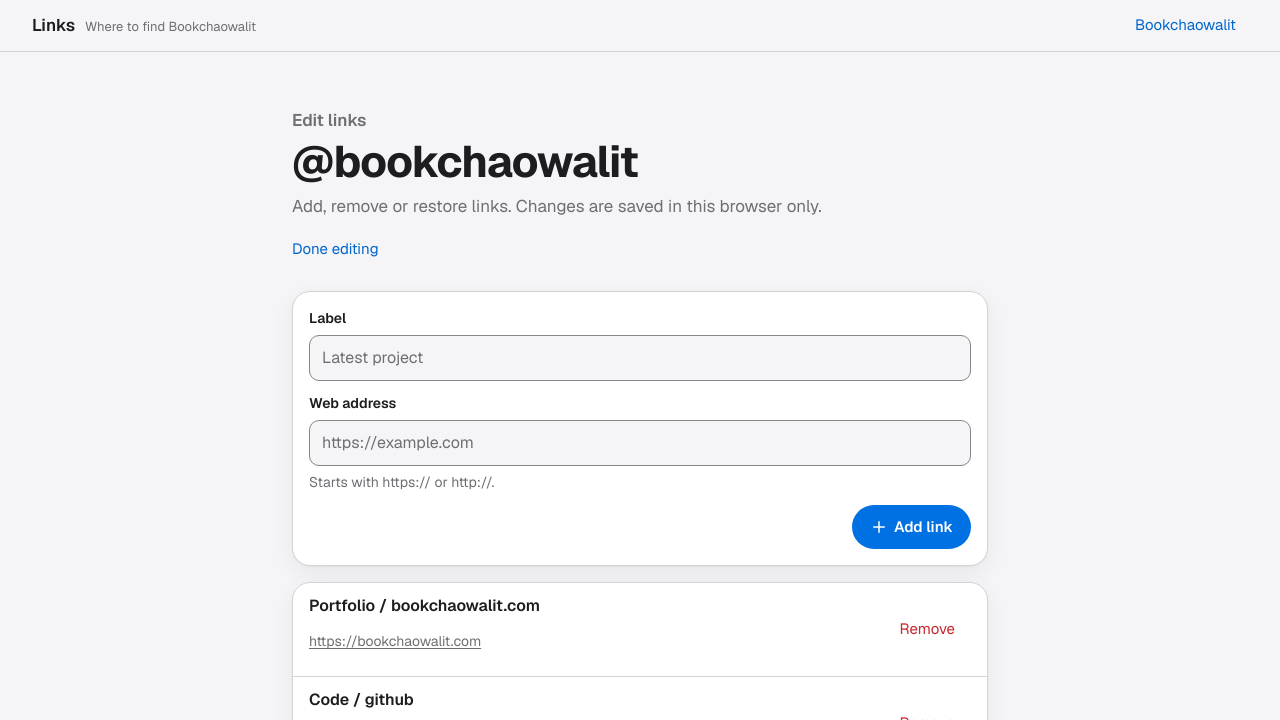
Test case: owner editor at /edit › removes with Undo, and offers the default links back when the list is empty
The image size is (1280, 720).
Later steps or results of the test are not shown.
What coordinates should you click on to do the following:
click the button "Remove" in the row of "Portfolio / bookchaowalit.com"
I would click on:
 (927, 630)
Its box is [888,608,967,652].
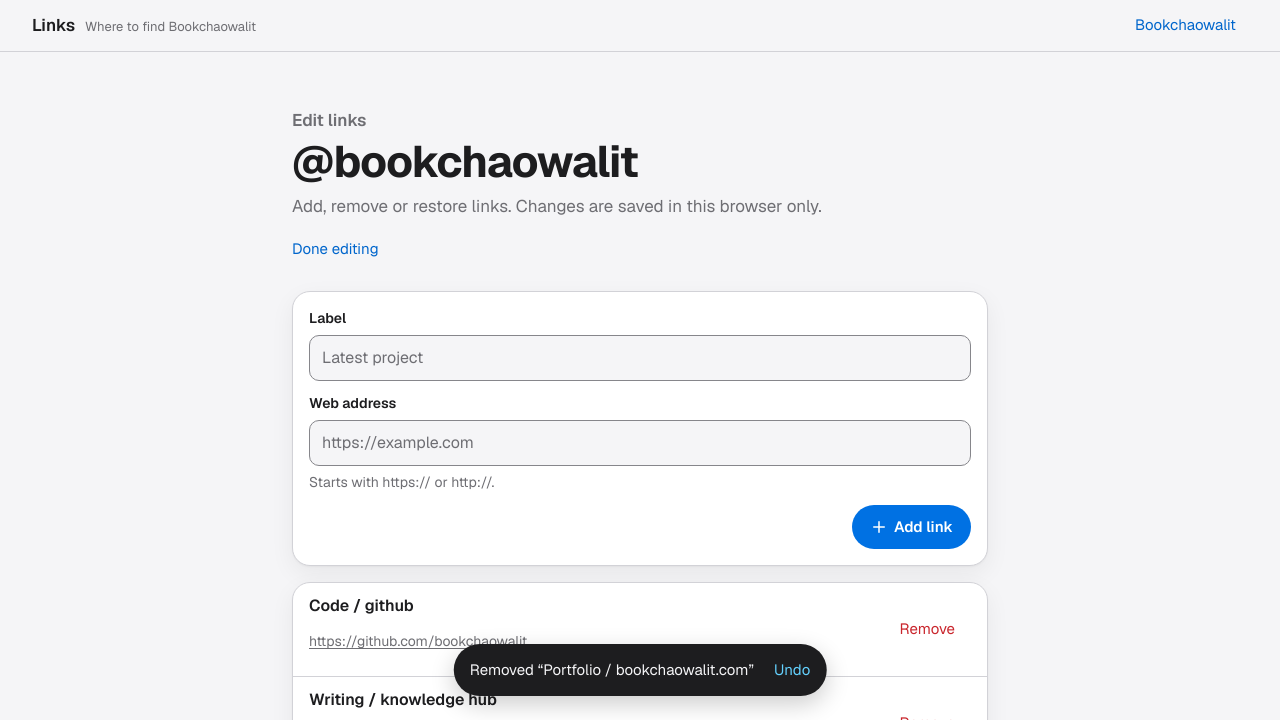
What coordinates should you click on to do the following:
click the button "Undo"
I would click on:
 (792, 670)
Its box is [762,648,822,692].
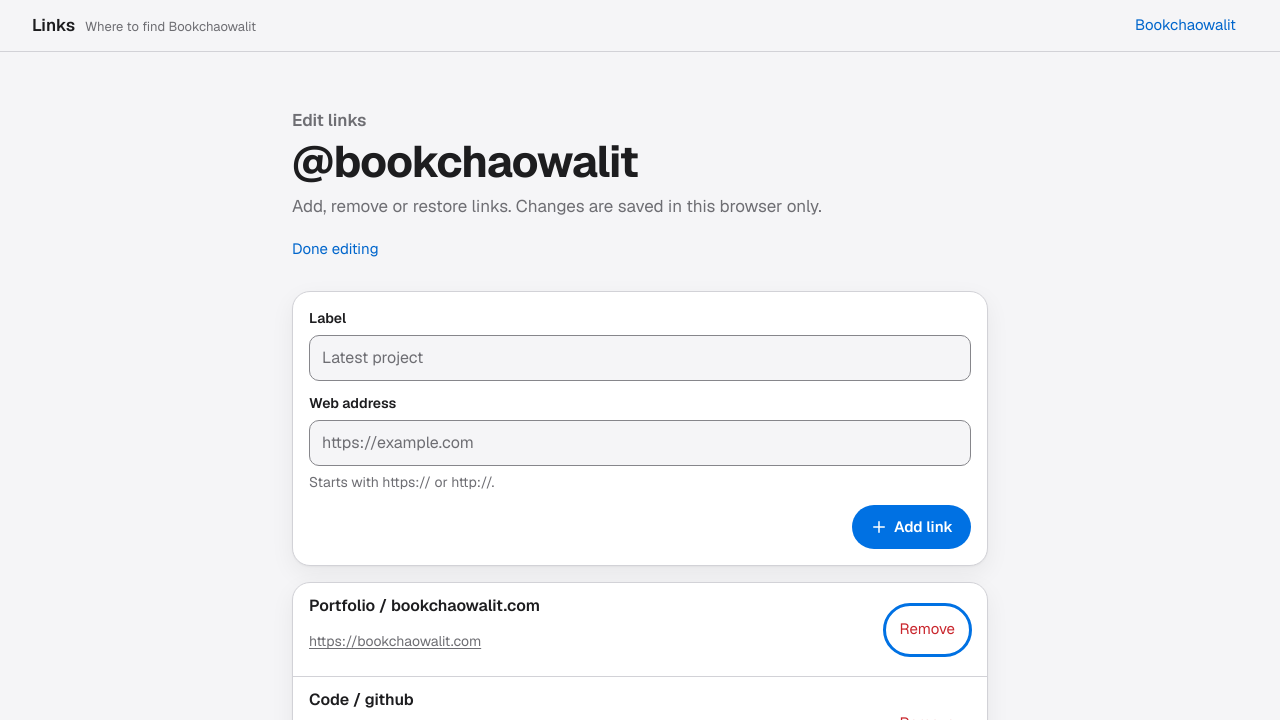
Check: the heading "Portfolio / bookchaowalit.com" is shown, box [309,595,540,616]
What coordinates should you click on to do the following:
click the button "Remove" in the row of "Portfolio / bookchaowalit.com"
I would click on:
 (927, 630)
Its box is [888,608,967,652].
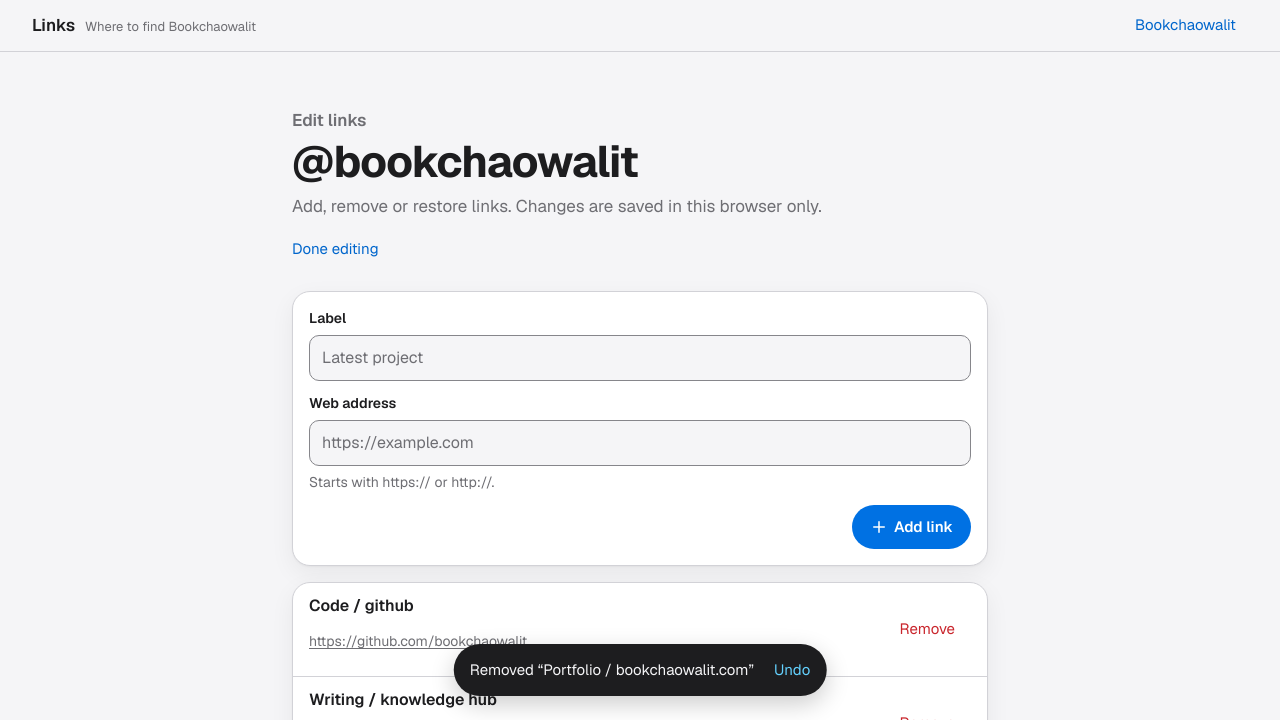
What coordinates should you click on to do the following:
click the button "Remove" in the row of "Code / github"
I would click on:
 (927, 630)
Its box is [888,608,967,652].
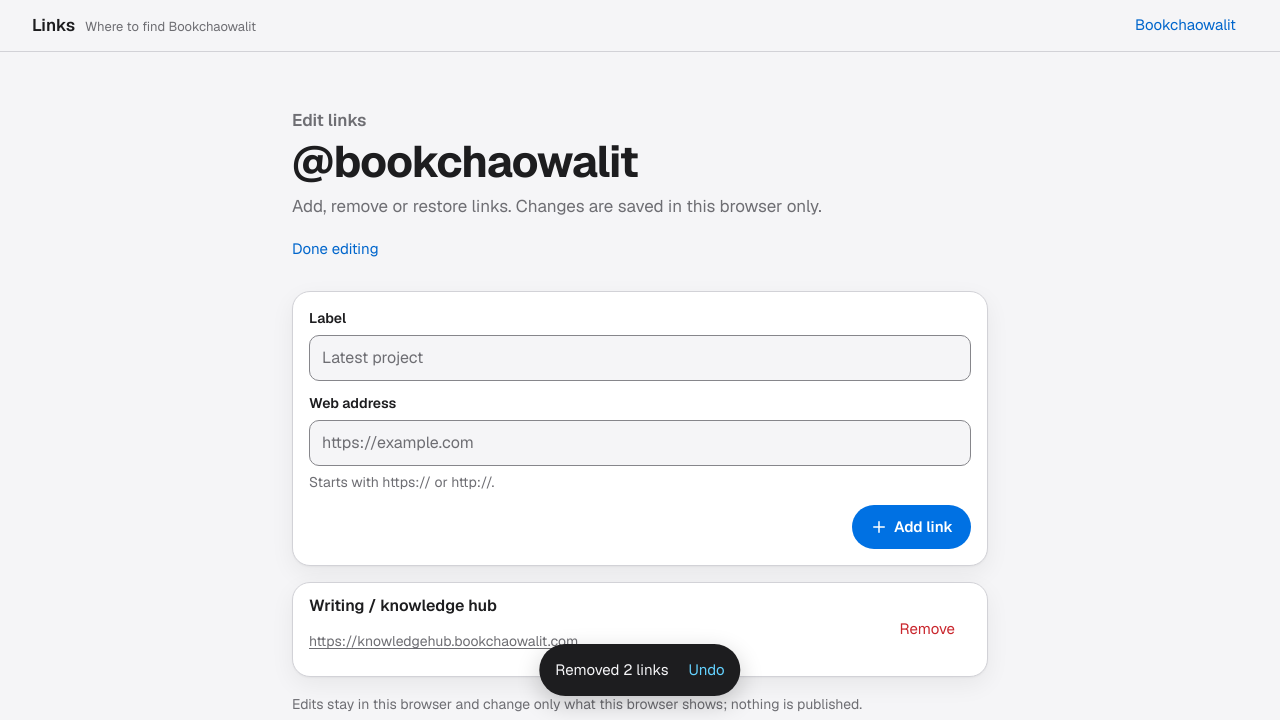
What coordinates should you click on to do the following:
click the button "Remove"
I would click on:
 (927, 630)
Its box is [888,608,967,652].
Wait 6000 ms
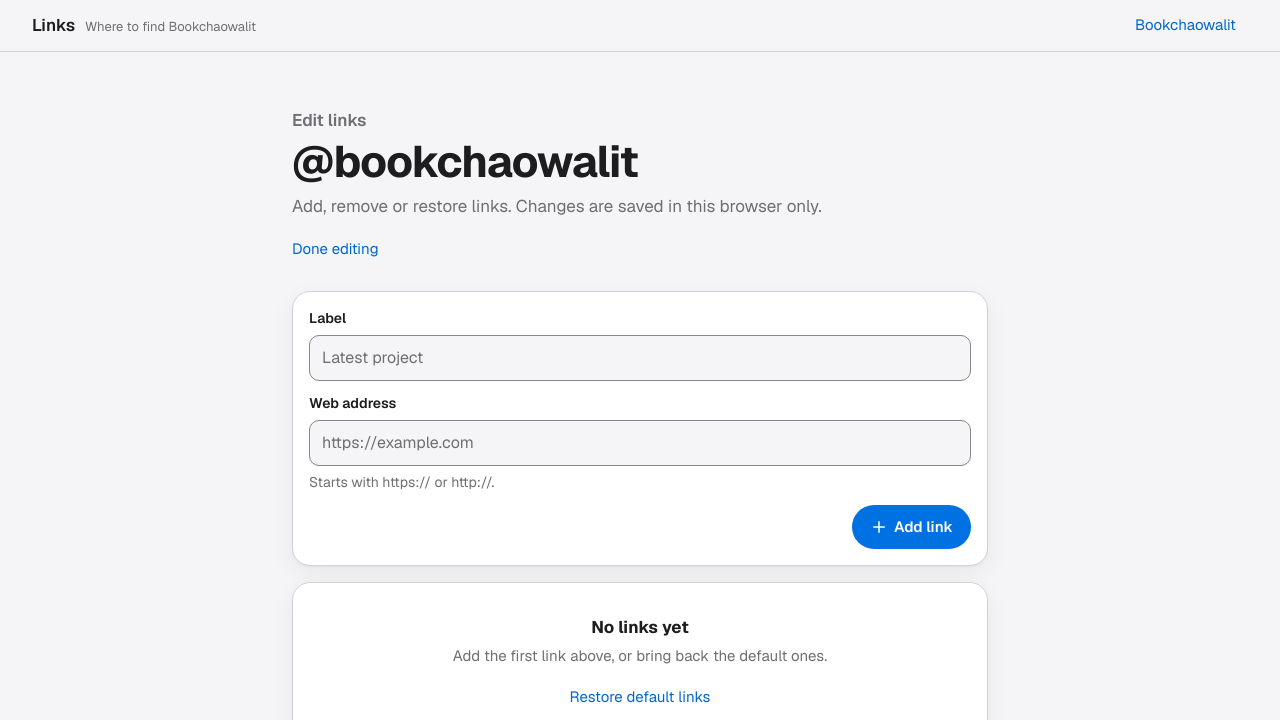
Check: the element with class "as-toast" is gone
Check: the element with class "as-empty" shows "Add the first link above", box [453,646,827,665]
